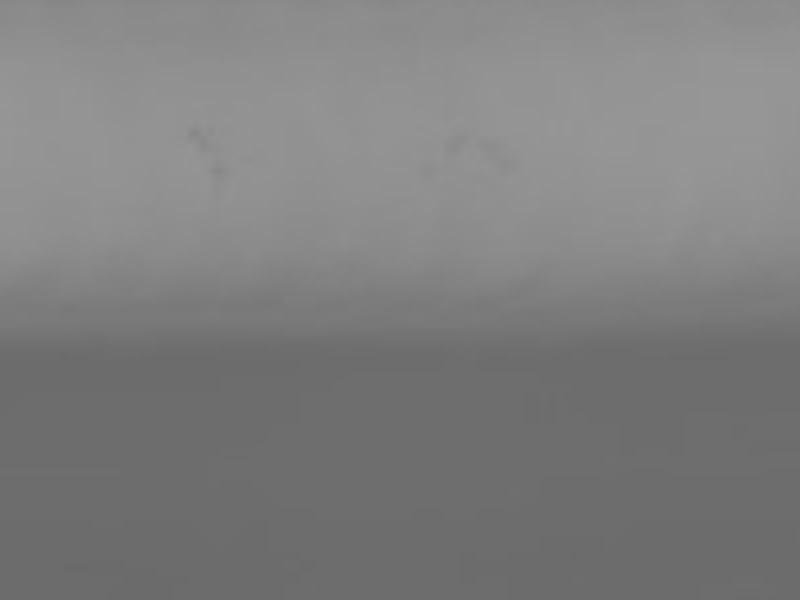defect: (182, 120, 218, 149), (205, 164, 236, 188), (446, 133, 469, 159)
